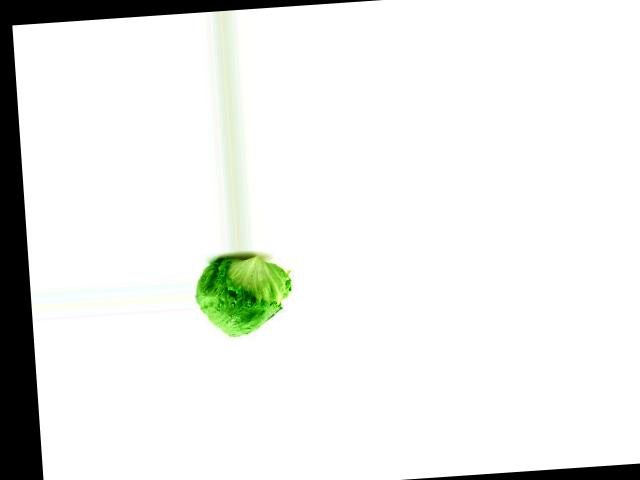lettuce: (190, 252, 294, 342)
